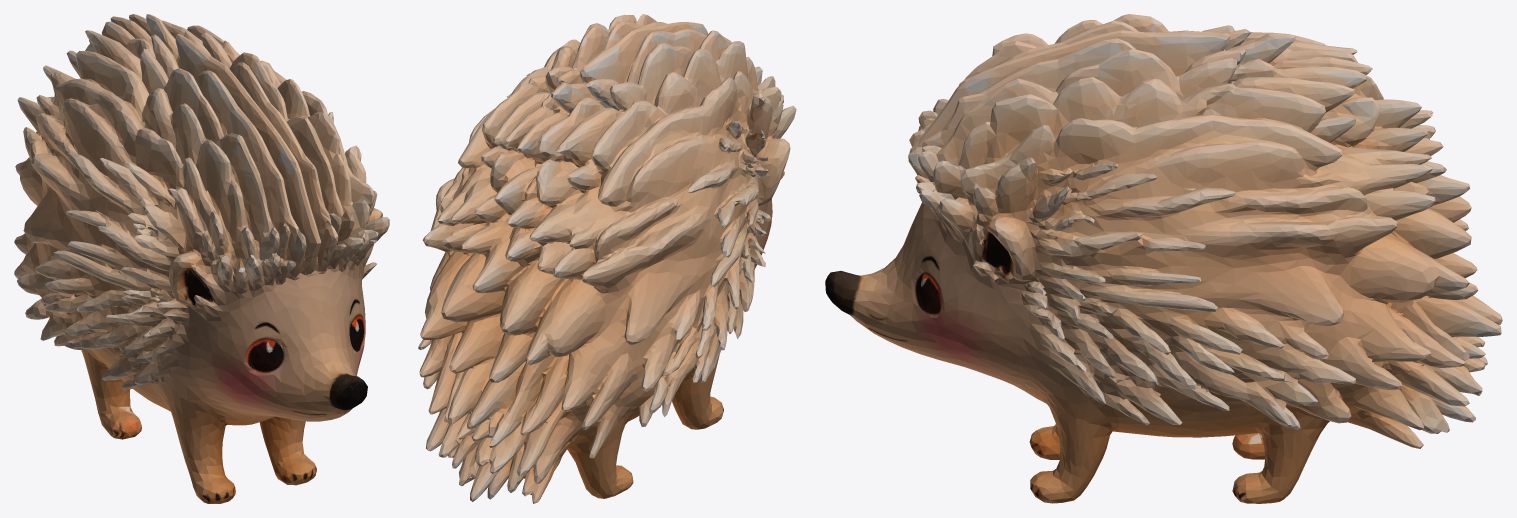
File: w_hedgehog.glb
The picture shows the model from 3 angles, left to right: view 1: azimuth 30°, elevation 25°; view 2: azimuth 150°, elevation 25°; view 3: azimuth 270°, elevation 25°; orthographic projection. The views are drawn at different scales.
Visible parts, largest first — view 1: textured_mesh.obj; view 2: textured_mesh.obj; view 3: textured_mesh.obj.
Part boxes in pixels (<box>): textured_mesh.obj: <box>14,14,389,503</box>; textured_mesh.obj: <box>418,14,796,503</box>; textured_mesh.obj: <box>825,14,1502,503</box>.
Size of the model in its own units: 0.9611 by 1.45 by 1.99.
Materials: 1 (1 with a texture image).
